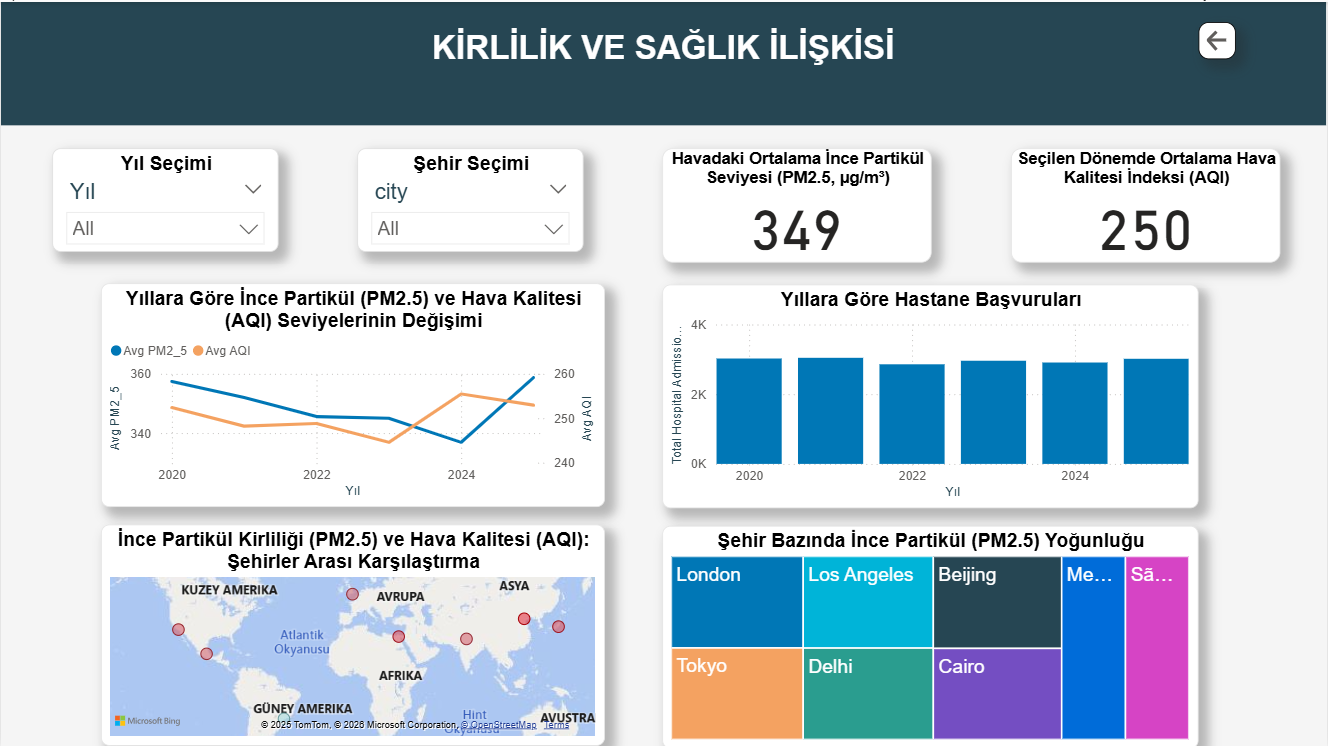

The dashboard page shown, as its layout file describes it:
{"tool":"powerbi","page":{"name":"Kirlilik Ve Sağlık","canvas":[1280,720],"ordinal":2},"visuals":[{"type":"shape","box":[0,0,1278.9,119],"z":0},{"type":"textbox","box":[0,0,1278.3,117.4],"z":1000},{"type":"slicer","title":"Yıl Seçimi","fields":{"Values":["DimDate.Yıl"]},"box":[49.8,141.2,218.7,99.7],"z":2000},{"type":"slicer","title":"Şehir Seçimi","fields":{"Values":["DimLocation.city"]},"box":[344.2,141.2,218.7,99.7],"z":3000},{"type":"card","title":"Havadaki Ortalama İnce Partikül Seviyesi (PM2.5, µg/m³)","fields":{"Values":["air_quality_health_dataset.Avg PM2_5"]},"box":[638.5,141.2,260.2,110.7],"z":4000},{"type":"card","title":"Seçilen Dönemde Ortalama Hava Kalitesi İndeksi (AQI)","fields":{"Values":["air_quality_health_dataset.Avg AQI"]},"box":[974.4,141.2,260.2,110.7],"z":5000},{"type":"lineChart","title":"Yıllara Göre İnce Partikül (PM2.5) ve Hava Kalitesi (AQI) Seviyelerinin Değişimi","fields":{"Category":["DimDate.Yıl"],"Y":["air_quality_health_dataset.Avg PM2_5"],"Y2":["air_quality_health_dataset.Avg AQI"]},"box":[96.5,271.4,486.2,216],"z":6000},{"type":"columnChart","title":"Yıllara Göre Hastane Başvuruları","fields":{"Category":["DimDate.Yıl"],"Y":["air_quality_health_dataset.Total Hospital Admissions"]},"box":[638.2,272.7,517.6,216],"z":7000},{"type":"treemap","title":"Şehir Bazında İnce Partikül (PM2.5) Yoğunluğu","fields":{"Group":["air_quality_health_dataset.city"],"Values":["air_quality_health_dataset.Avg PM2_5"]},"box":[638.1,505,517.3,215.4],"z":8000},{"type":"map","title":"İnce Partikül Kirliliği (PM2.5) ve Hava Kalitesi (AQI): Şehirler Arası Karşılaştırma","fields":{"Category":["air_quality_health_dataset.city"],"Size":["air_quality_health_dataset.Avg PM2_5"]},"box":[96.5,504.3,486.2,213.5],"z":9000},{"type":"actionButton","box":[1155.8,19.3,36,36],"z":10000}]}

Visuals, with their boxes in screenshot pixels (x1, y1, x2, y2), scaled from the page's 1280x720 canvas onto the 1328x746 screenshot:
shape: crop(0, 0, 1327, 123)
textbox: crop(0, 0, 1326, 122)
"Yıl Seçimi" slicer: crop(52, 146, 279, 250)
"Şehir Seçimi" slicer: crop(357, 146, 584, 250)
"Havadaki Ortalama İnce Partikül Seviyesi (PM2.5, µg/m³)" card: crop(662, 146, 932, 261)
"Seçilen Dönemde Ortalama Hava Kalitesi İndeksi (AQI)" card: crop(1011, 146, 1281, 261)
"Yıllara Göre İnce Partikül (PM2.5) ve Hava Kalitesi (AQI) Seviyelerinin Değişimi" lineChart: crop(100, 281, 605, 505)
"Yıllara Göre Hastane Başvuruları" columnChart: crop(662, 283, 1199, 506)
"Şehir Bazında İnce Partikül (PM2.5) Yoğunluğu" treemap: crop(662, 523, 1199, 745)
"İnce Partikül Kirliliği (PM2.5) ve Hava Kalitesi (AQI): Şehirler Arası Karşılaştırma" map: crop(100, 523, 605, 744)
actionButton: crop(1199, 20, 1236, 57)
